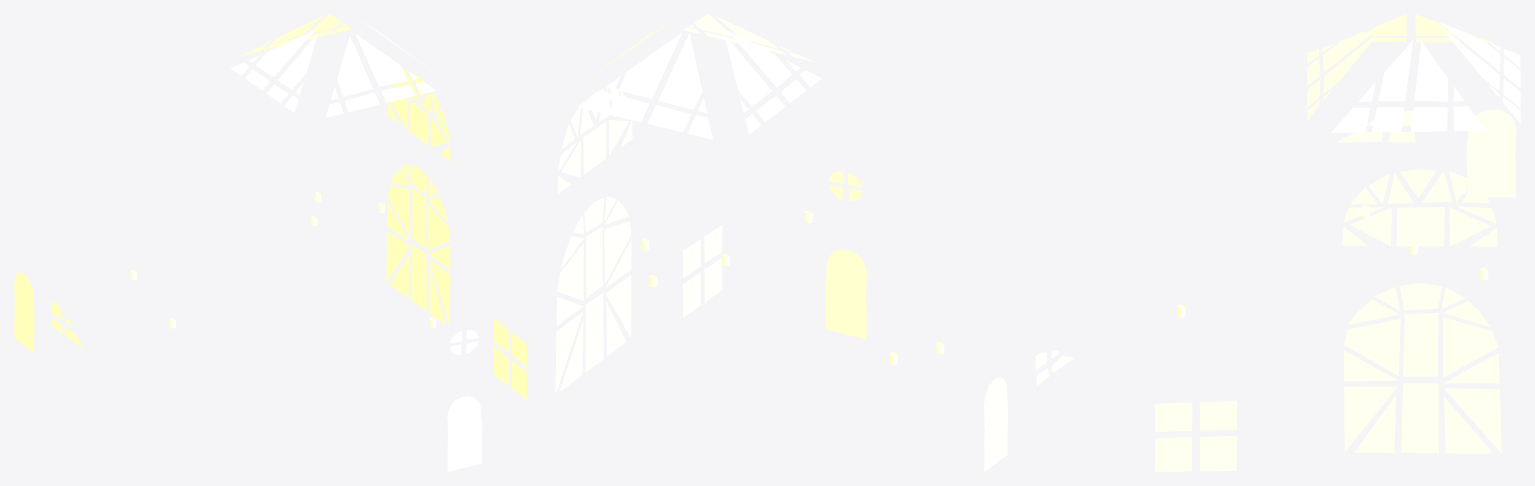
Rendered from Glow.fbx.
3 renders of one model, left to right at view 1: azimuth 30°, elevation 25°; view 2: azimuth 150°, elevation 25°; view 3: azimuth 270°, elevation 25°, orthographic. The views are drawn at different scales.
Parts seen in each view (by area): view 1: Glow; view 2: Glow, Glow.001; view 3: Glow.
Part boxes in pixels (x1,y1,x2,y2): Glow: [14, 14, 526, 471]; Glow: [555, 14, 1073, 471]; Glow.001: [641, 210, 944, 364]; Glow: [1154, 14, 1520, 471].
Size of the model in its own units: 1093 by 1002 by 867.
